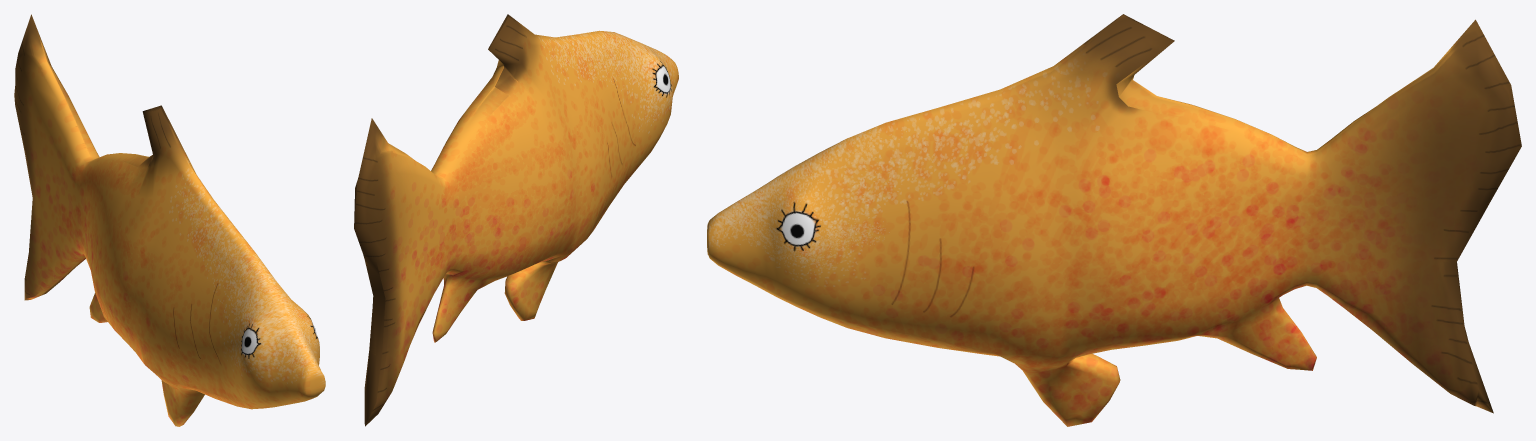
File: FISH.glb
3 renders of one model, left to right at view 1: azimuth 30°, elevation 25°; view 2: azimuth 150°, elevation 25°; view 3: azimuth 270°, elevation 25°, orthographic. The views are drawn at different scales.
Visible parts, largest first — view 1: Cube.001; view 2: Cube.001; view 3: Cube.001.
Part boxes in pixels (x1=…): Cube.001: x1=14, y1=14, x2=325, y2=426; Cube.001: x1=354, y1=14, x2=678, y2=426; Cube.001: x1=707, y1=14, x2=1521, y2=426.
Size of the model in its own units: 1.28 by 3.82 by 6.81.
Materials: 1 (1 with a texture image).
